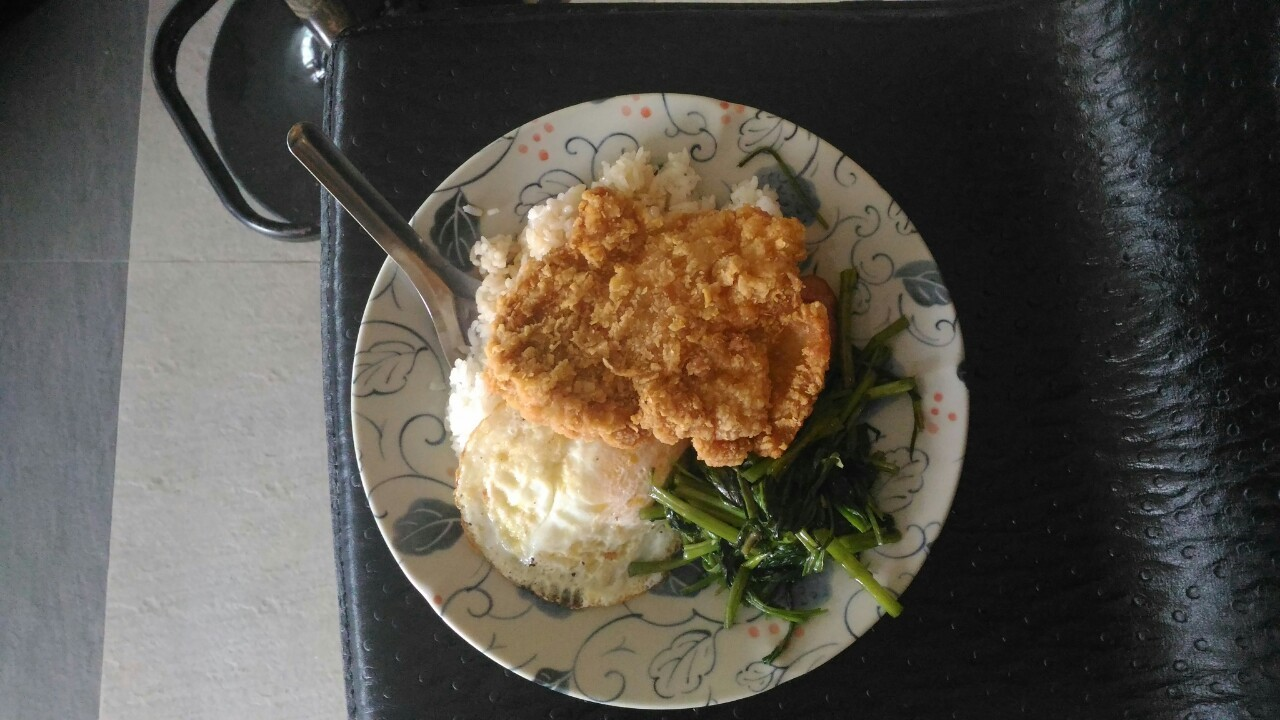fried_chicken: (478, 177, 835, 464)
fried_eggs: (455, 399, 698, 612)
water_spinach: (659, 290, 904, 605)
